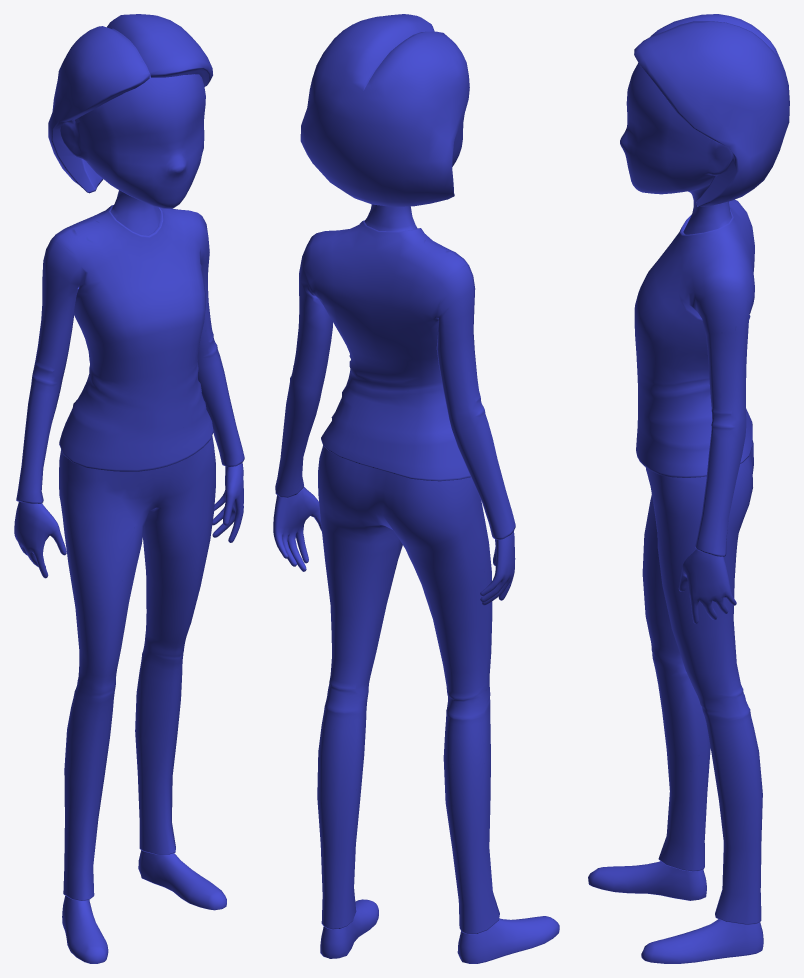
Rendered from woman.fbx.
3 views of the same model, side by side, from view 1: azimuth 30°, elevation 25°; view 2: azimuth 150°, elevation 25°; view 3: azimuth 270°, elevation 25° (orthographic). The views are drawn at different scales.
Visible parts, largest first — view 1: root; view 2: root; view 3: root.
Part boxes in pixels (x1,y1,x2,y2): root: (14, 14, 244, 963); root: (273, 14, 559, 963); root: (588, 14, 789, 963).
Size of the model in its own units: 0.1957 by 0.7323 by 0.1473.
Materials: 1 (1 with a texture image).
